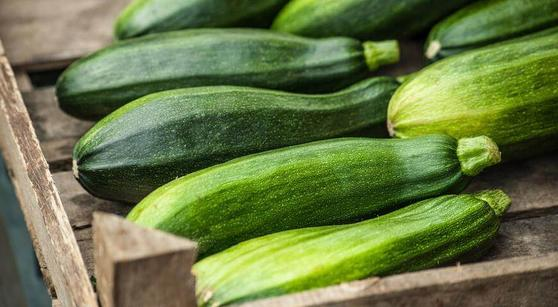zucchini: (63, 74, 411, 186)
